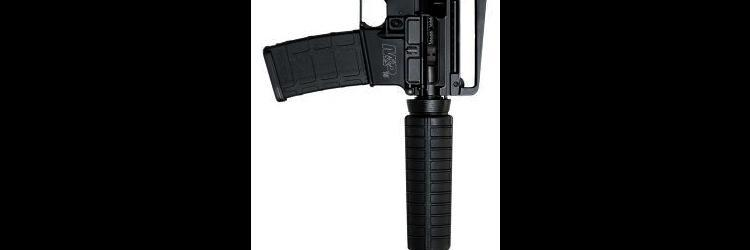gun: (254, 0, 495, 250)
